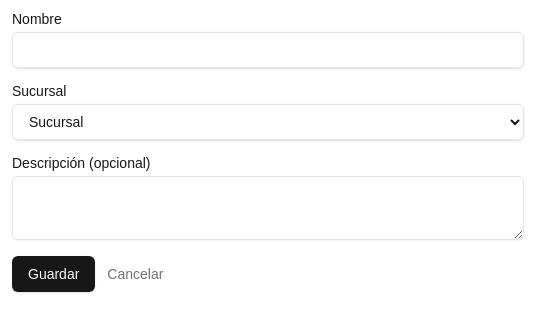
Test: BarberForm — field errors and focus › should_render_the_bio_error_on_the_textarea
In the field labelled "Nombre": (268, 50) [12,32,524,68], type "Juan"
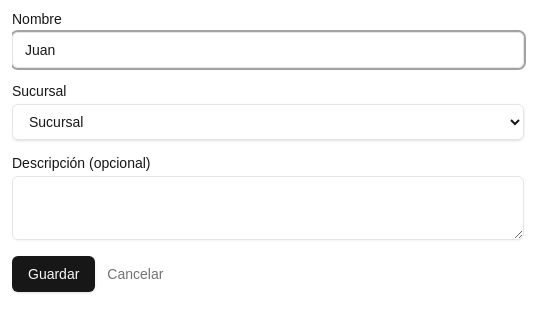
Select "Sucursal Centro" in the dropdown labelled "Sucursal": (268, 122) [12,104,524,140]
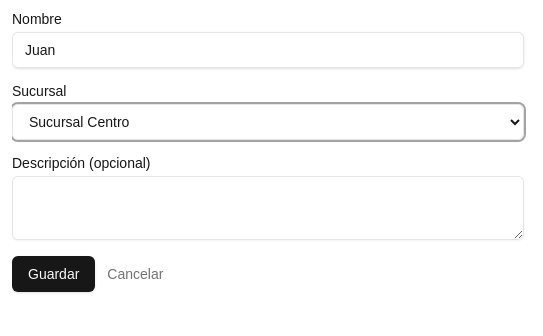
Click the button "Guardar": (54, 274) [12,256,95,292]
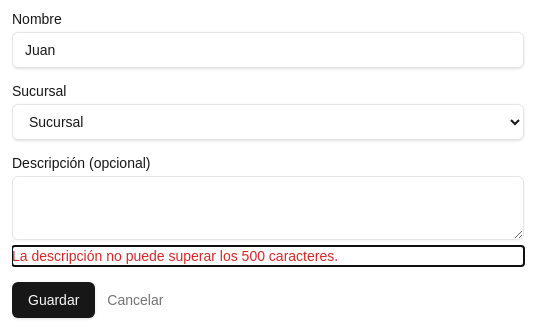
Expected: the message reads "La descripción no puede superar los 500 caracteres.", [12,248,338,264]
